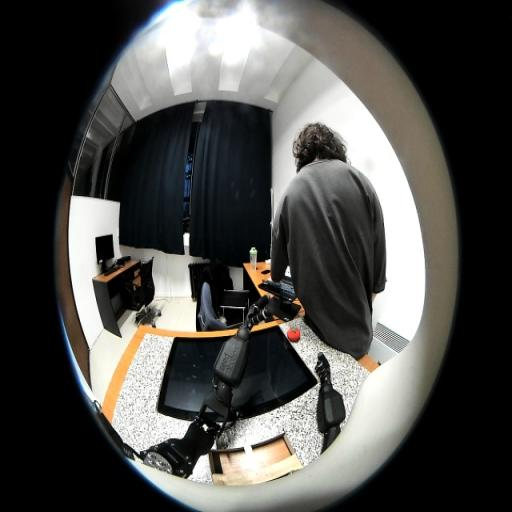LeftHand: (245, 307, 258, 329)
RightHand: (321, 370, 330, 384)
Tomato: (287, 326, 300, 342)
